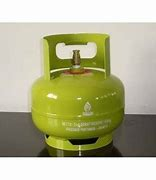gas_ijo: (31, 33, 126, 151)
